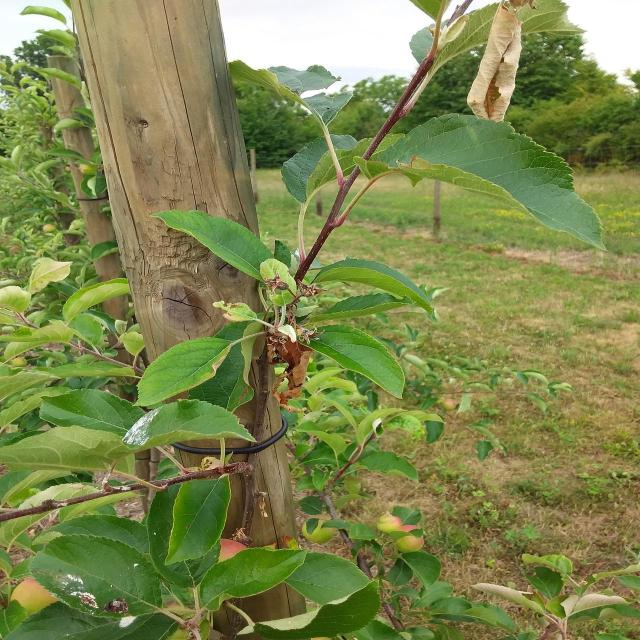-FireBlight-: (260, 308, 332, 406)
